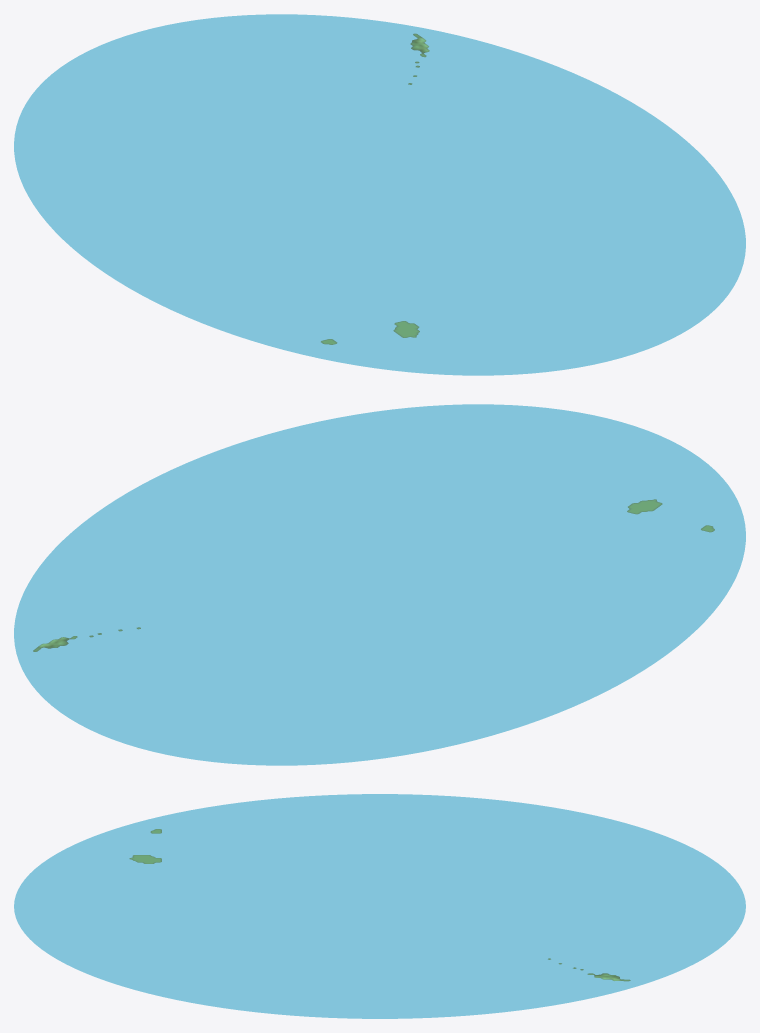
The model's file is PLW-terrain.glb.
3 renders of one model, top to bottom at view 1: azimuth 30°, elevation 25°; view 2: azimuth 150°, elevation 25°; view 3: azimuth 270°, elevation 25°, orthographic. The views are drawn at different scales.
Visible parts, largest first — view 1: Relevo com hidrografia; view 2: Relevo com hidrografia; view 3: Relevo com hidrografia.
Part boxes in pixels (left/top/right/bottom): Relevo com hidrografia: left=14, top=14, right=745, bottom=375; Relevo com hidrografia: left=14, top=404, right=745, bottom=765; Relevo com hidrografia: left=14, top=794, right=745, bottom=1018.
Bounding box in the file's own units: 1.6 × 0.00452 × 2.2.
2 materials, 1 textured.
